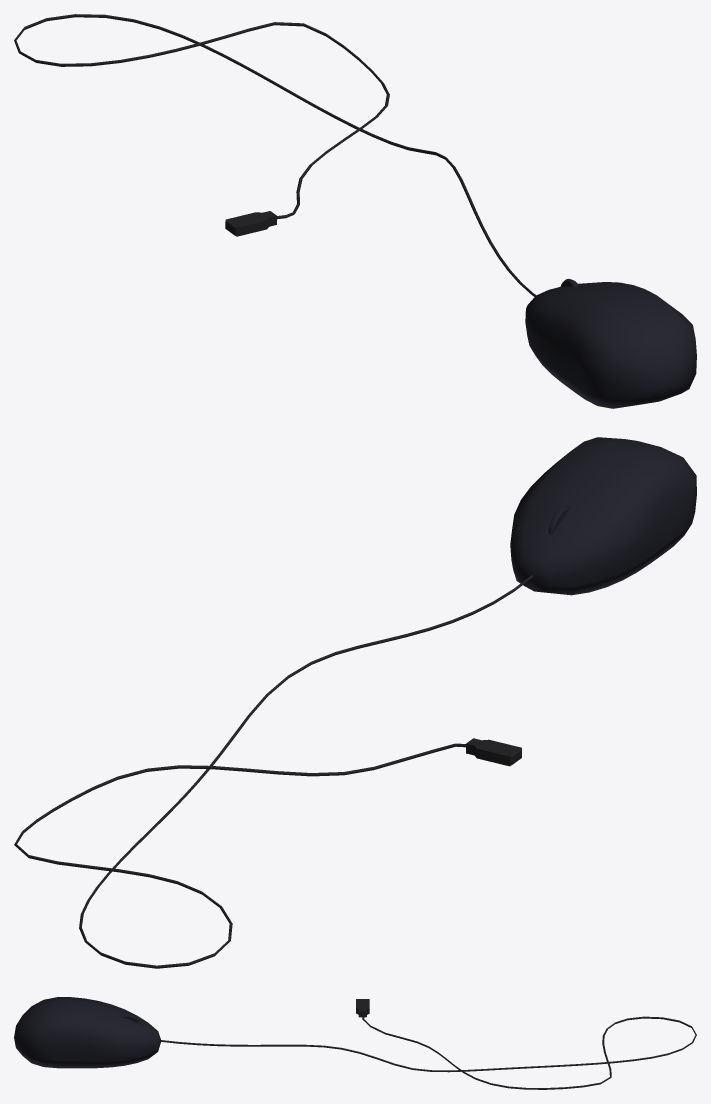
The model's file is laptopMouse.fbx.
3 views of the same model, one above another, from view 1: azimuth 30°, elevation 25°; view 2: azimuth 150°, elevation 25°; view 3: azimuth 270°, elevation 25° (orthographic). The views are drawn at different scales.
Parts seen in each view (by area): view 1: mouse; view 2: mouse; view 3: mouse.
Boxes of the visible parts, x1,y1,x2,y2 form: mouse: [14, 14, 696, 408]; mouse: [14, 437, 696, 968]; mouse: [14, 997, 696, 1089].
Size of the model in its own units: 0.2092 by 0.0579 by 0.7238.
